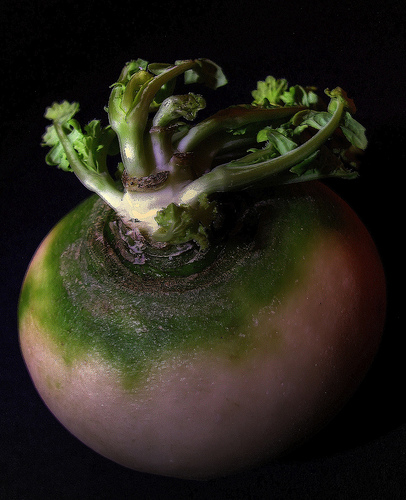turnip: (15, 56, 379, 480)
